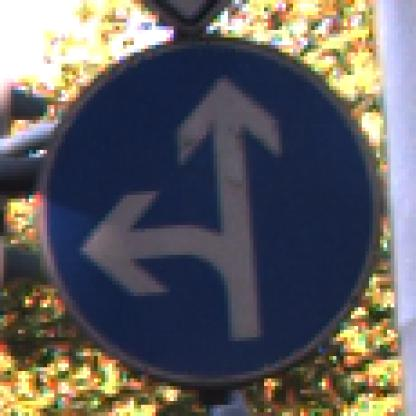Straight or Left: (37, 35, 381, 383)
